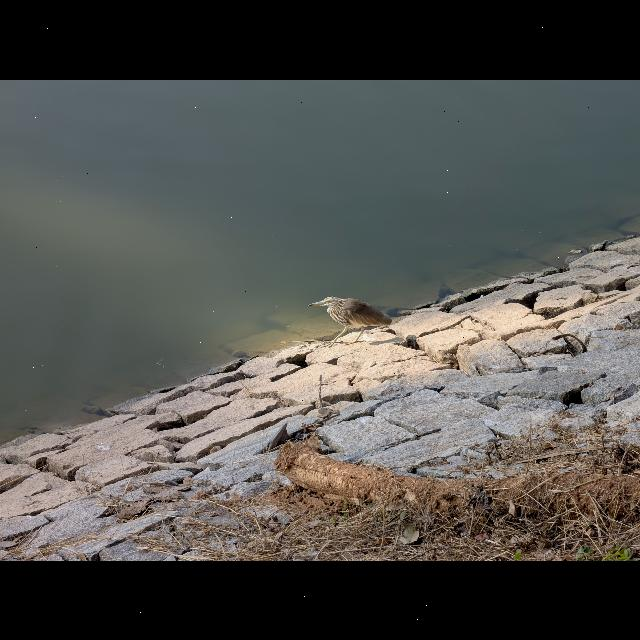heron: (305, 288, 399, 348)
